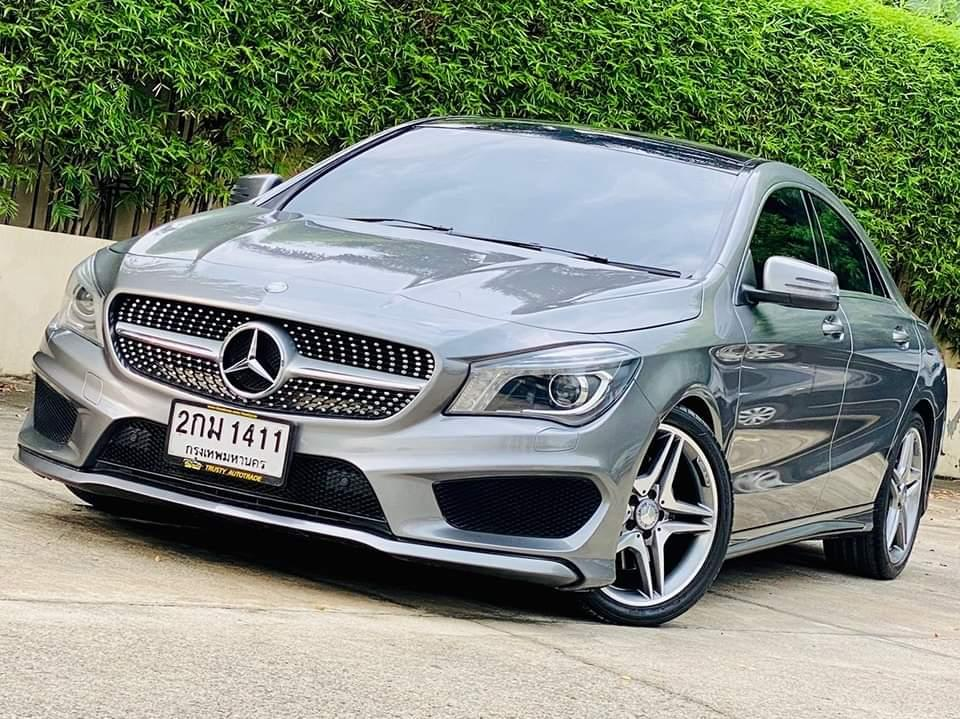license-plate: (165, 393, 292, 488)
